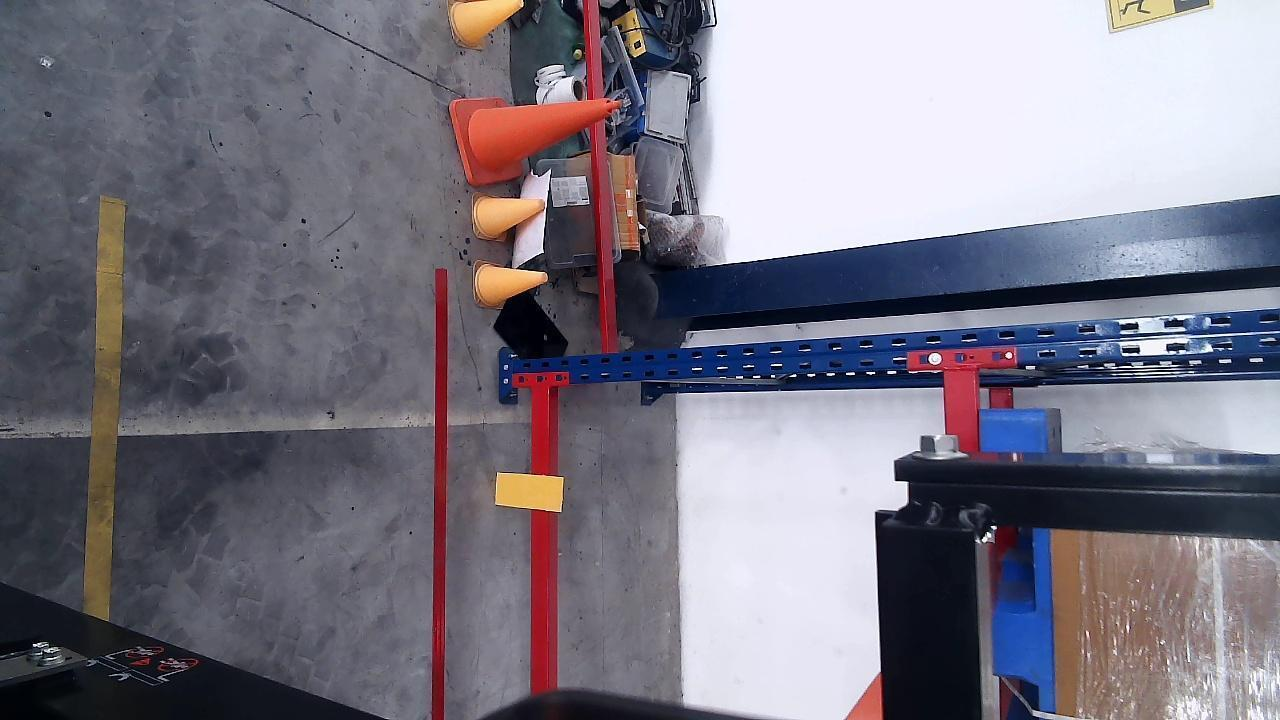red_line: (432, 269, 448, 719)
yellow_line: (85, 193, 131, 621)
